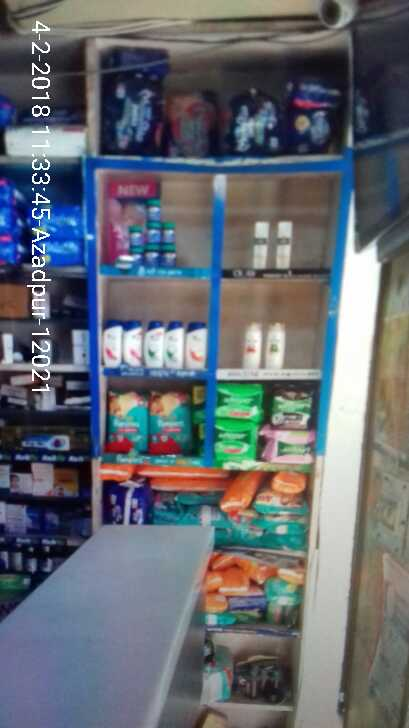vicks: (123, 192, 180, 267)
